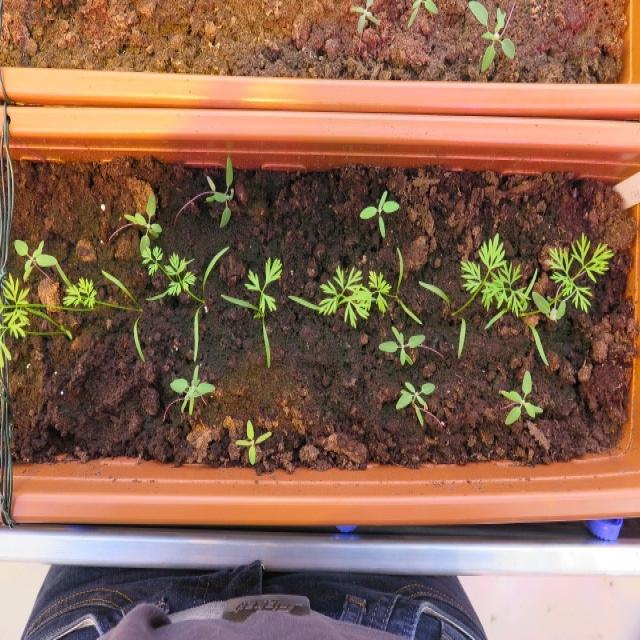weed: (494, 364, 544, 432), (164, 358, 219, 418), (386, 376, 439, 433), (354, 183, 401, 240), (231, 411, 273, 469), (372, 323, 426, 368)
